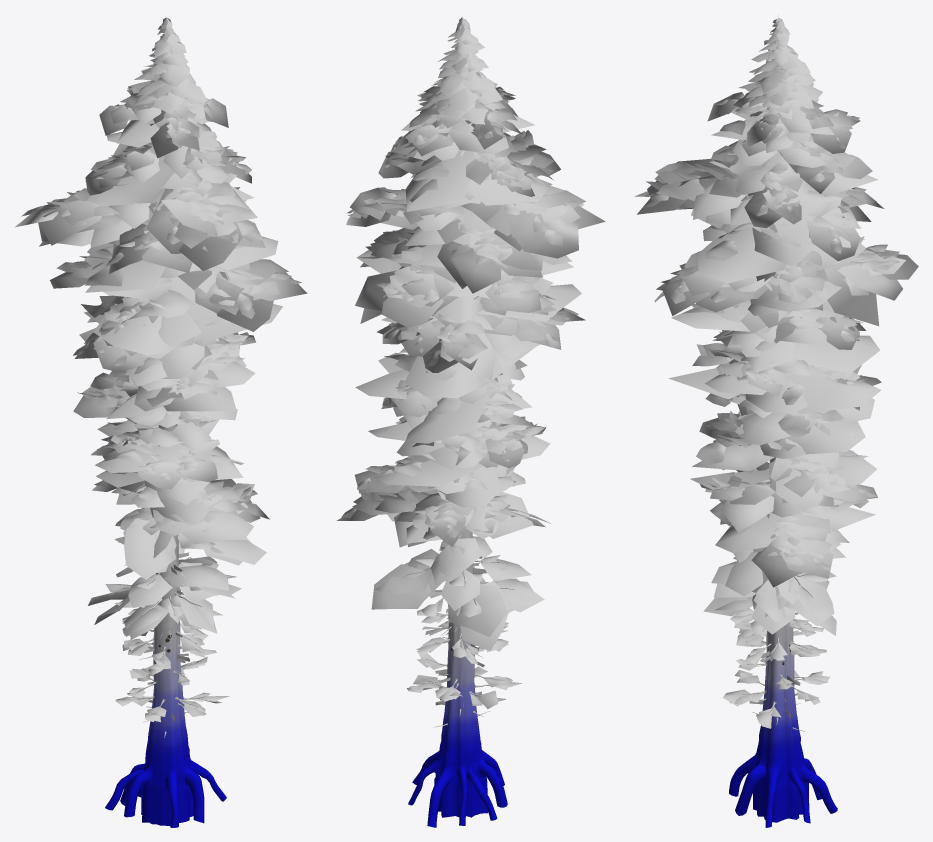
The model's file is Redwood1_LOD0.fbx.
The picture shows the model from 3 angles, left to right: view 1: azimuth 30°, elevation 25°; view 2: azimuth 150°, elevation 25°; view 3: azimuth 270°, elevation 25°; orthographic projection.
Visible parts, largest first — view 1: polySurface1215; view 2: polySurface1215; view 3: polySurface1215.
Part boxes in pixels (box(x1,y1,x2,y2)): polySurface1215: box(15, 17, 307, 827); polySurface1215: box(336, 16, 605, 827); polySurface1215: box(634, 15, 918, 827).
Size of the model in its own units: 592 by 1912 by 619.
